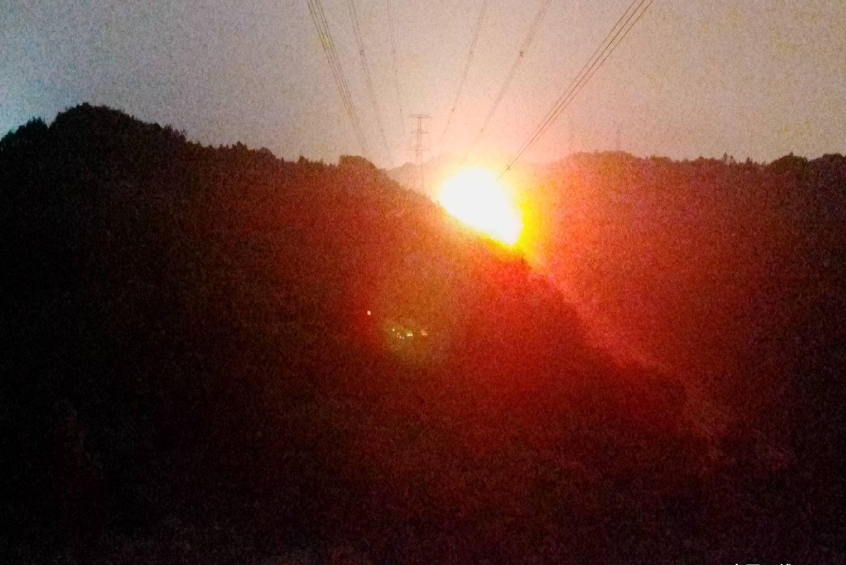山火: (433, 162, 525, 250)
